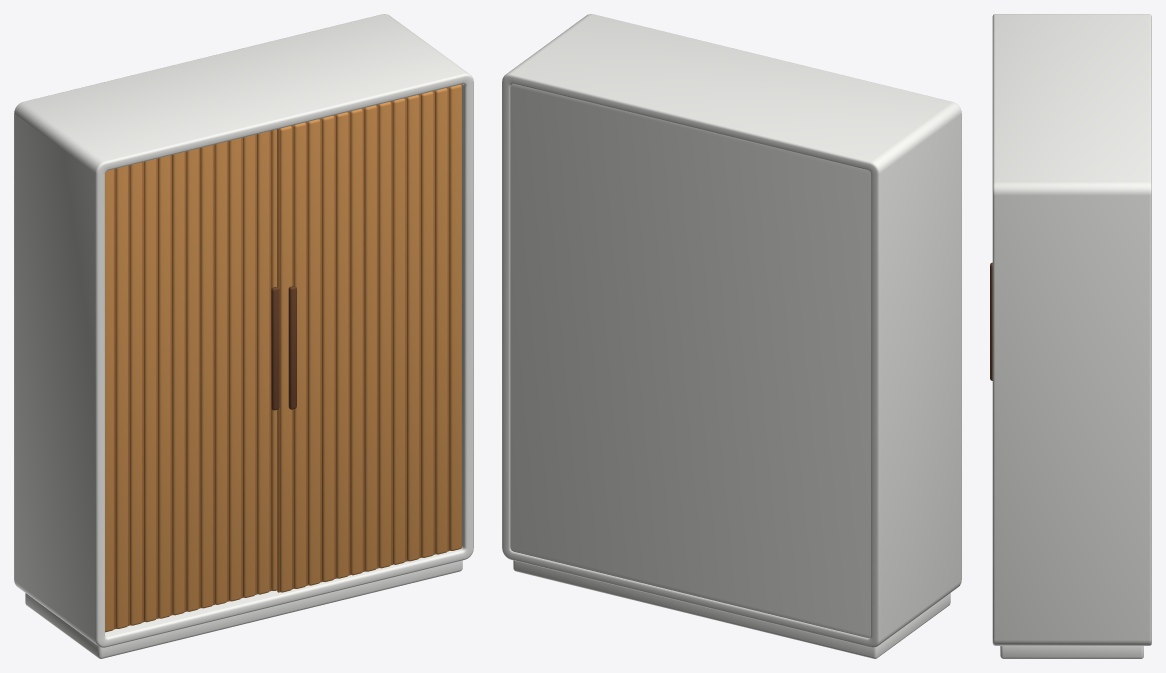
Rendered from guarda_roupa_correr_ripas_mel.glb.
3 renders of one model, left to right at view 1: azimuth 30°, elevation 25°; view 2: azimuth 150°, elevation 25°; view 3: azimuth 270°, elevation 25°, orthographic. The views are drawn at different scales.
Parts seen in each view (by area): view 1: guarda_roupa_correr_ripas_mel, correr_2, correr_1; view 2: guarda_roupa_correr_ripas_mel; view 3: guarda_roupa_correr_ripas_mel, correr_2.
Part boxes in pixels (<box>): guarda_roupa_correr_ripas_mel: <box>14,14,473,658</box>; correr_2: <box>277,84,461,592</box>; correr_1: <box>105,129,279,632</box>; guarda_roupa_correr_ripas_mel: <box>502,14,961,658</box>; guarda_roupa_correr_ripas_mel: <box>992,14,1151,658</box>; correr_2: <box>990,262,992,380</box>.
Size of the model in its own units: 1.62 by 2.05 by 0.63.
1 material, 1 textured.
